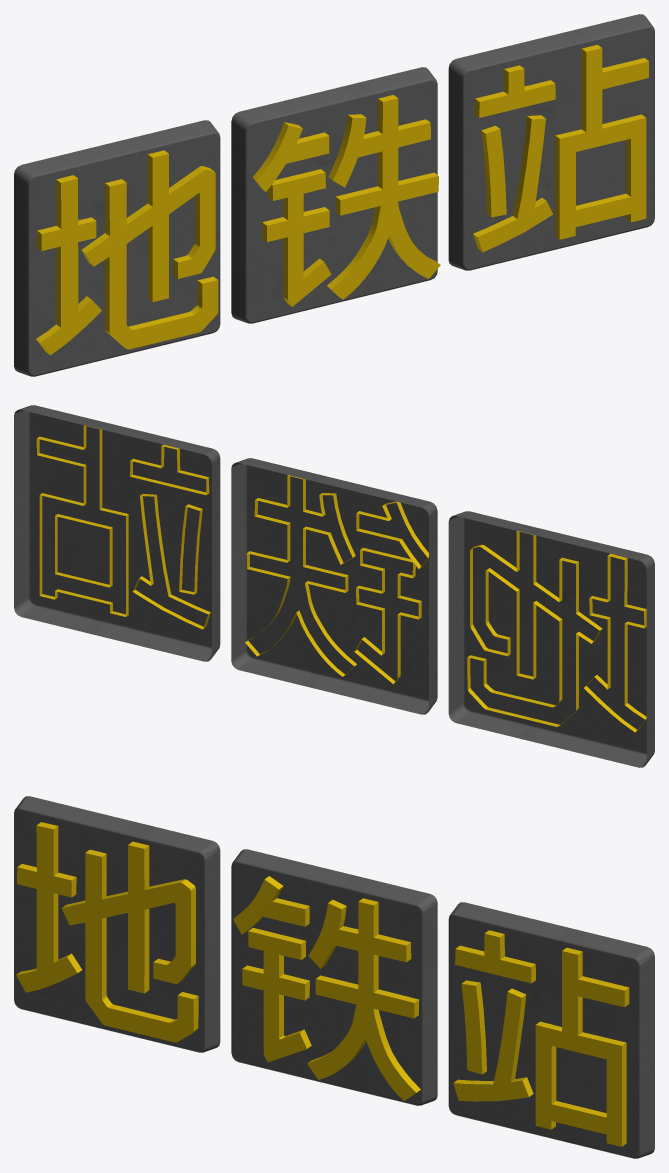
The model's file is Subway_station_China.fbx.
3 views of the same model, one above another, from view 1: azimuth 30°, elevation 25°; view 2: azimuth 150°, elevation 25°; view 3: azimuth 330°, elevation 25° (orthographic).
Visible parts, largest first — view 1: polySurface1343; view 2: polySurface1343; view 3: polySurface1343.
Part boxes in pixels (x1,y1,x2,y2): polySurface1343: (14,14,654,376); polySurface1343: (14,405,654,767); polySurface1343: (14,796,654,1158).
Size of the model in its own units: 248 by 77.58 by 11.19.
